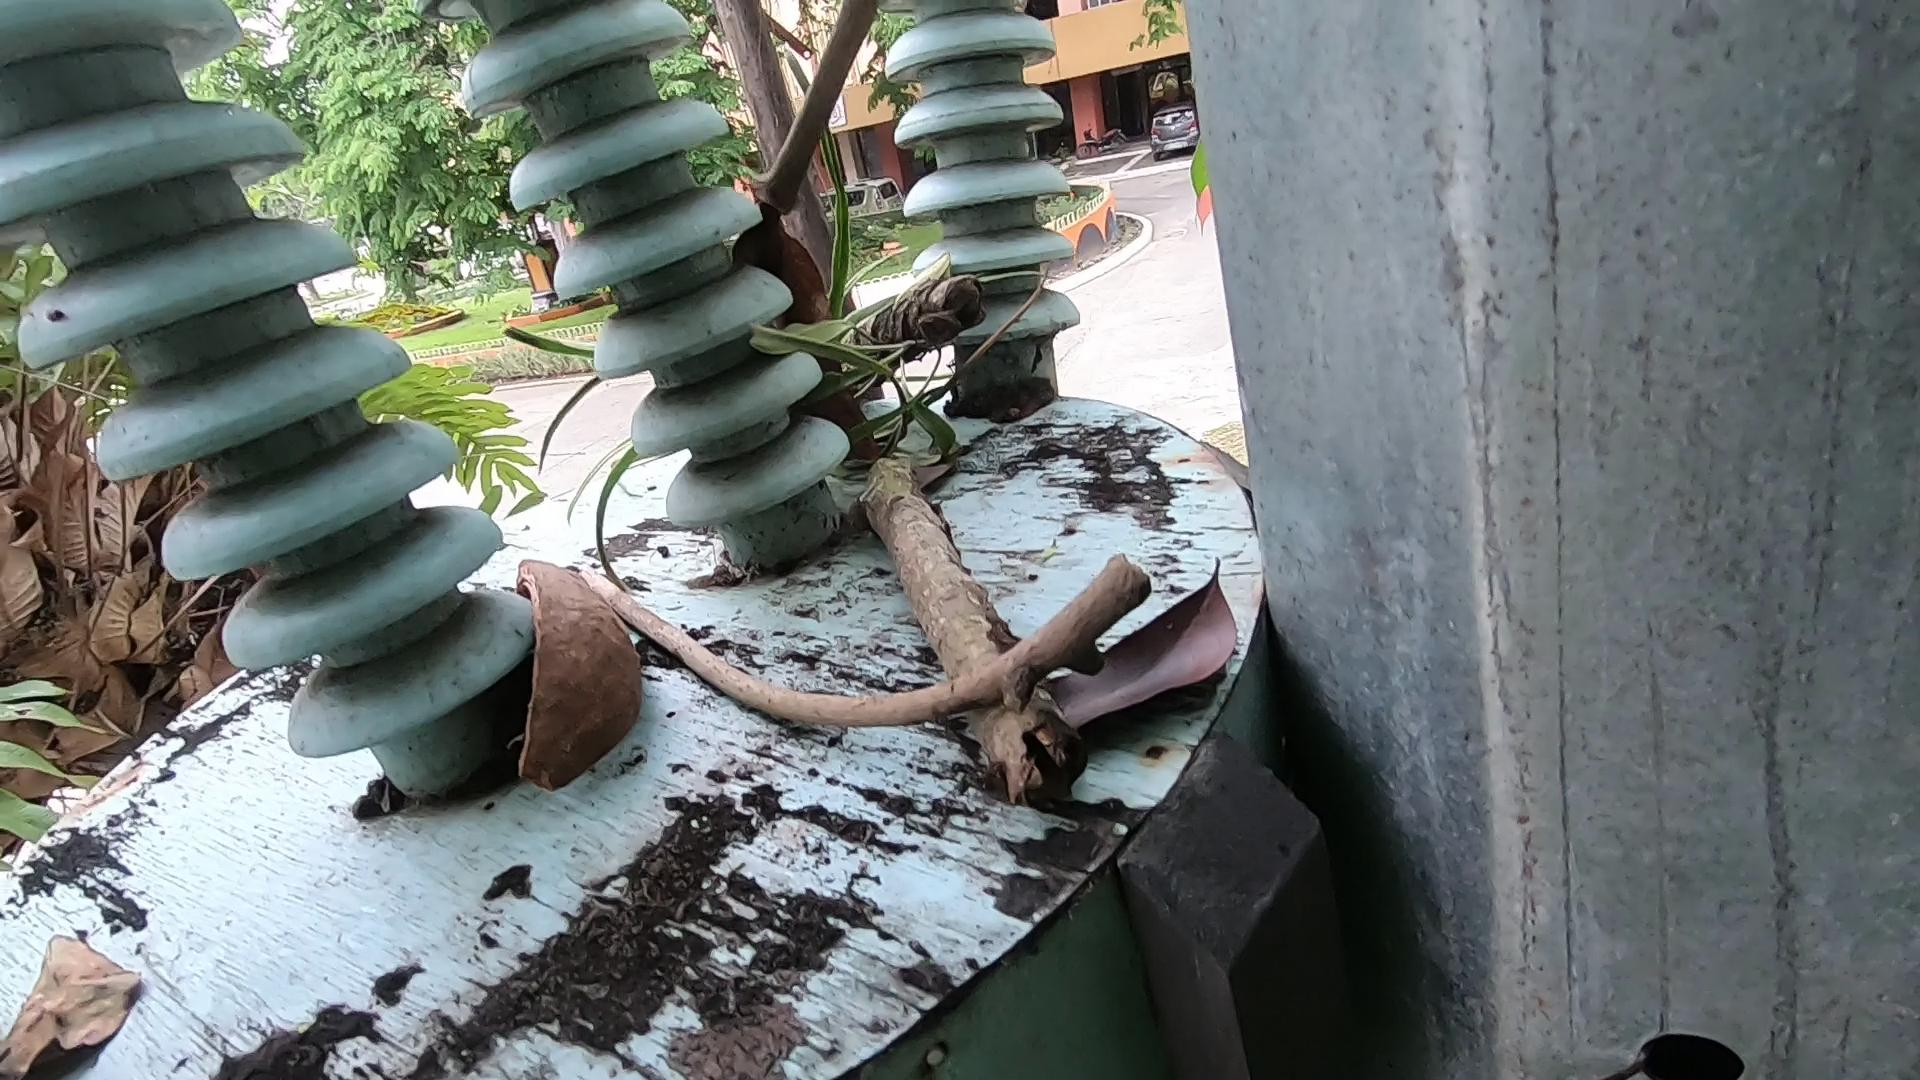branch with leaves: (783, 265, 1127, 847)
leaf: (1031, 555, 1305, 804), (1, 891, 174, 1080)
mahogany fruit: (708, 175, 985, 556), (472, 520, 659, 799)
tree branch: (543, 524, 1317, 719), (727, 1, 891, 301)
